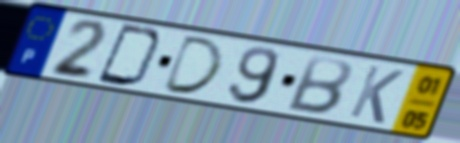2: (49, 18, 110, 82)
9: (225, 46, 283, 106)
B: (283, 53, 354, 117)
D: (93, 21, 167, 89), (158, 33, 228, 97)
K: (345, 62, 407, 126)
